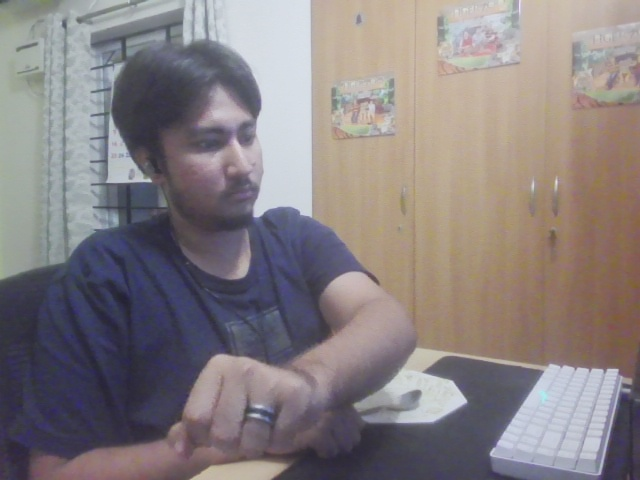yes: (165, 351, 323, 475)
